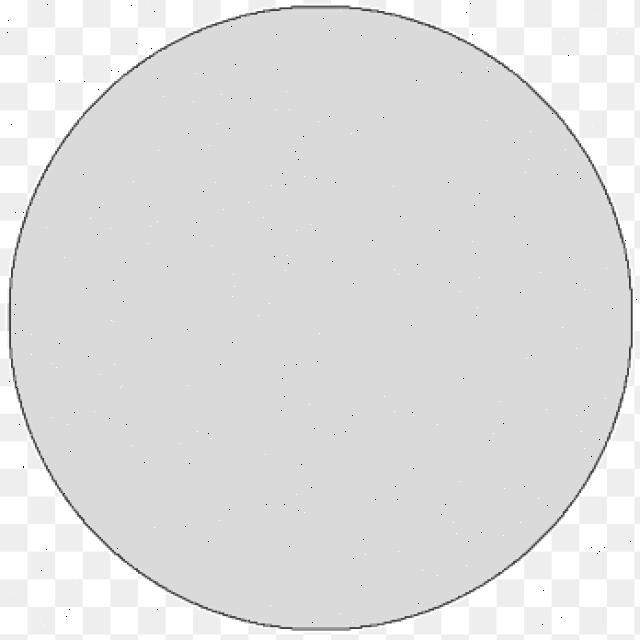Circle: (7, 6, 634, 633)
